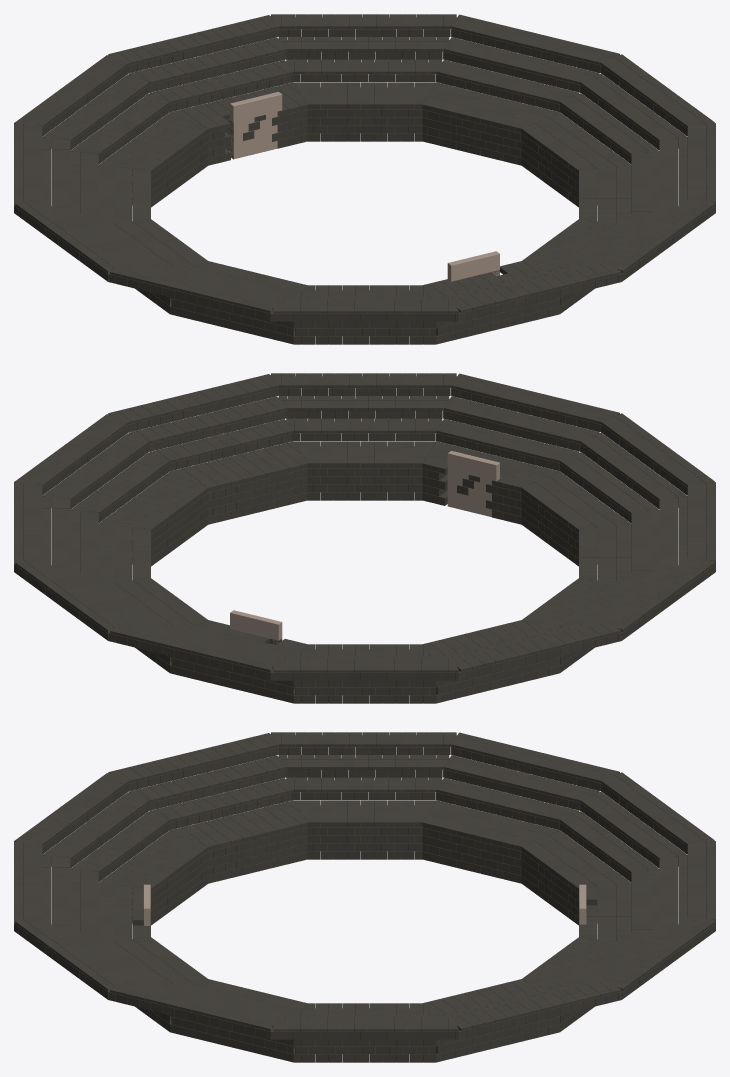
File: arena_bowl.glb
3 views of the same model, one above another, from view 1: azimuth 30°, elevation 25°; view 2: azimuth 150°, elevation 25°; view 3: azimuth 270°, elevation 25° (orthographic).
Visible parts, largest first — view 1: Bay10_stone_stand, Bay11_stone_stand, Bay09_stone_stand, Bay00_stone_stand, Bay08_stone_stand, Bay04_stone_stand, Bay01_stone_stand, Bay07_stone_stand, Bay05_stone_stand, Bay03_stone_stand, Bay06_stone_stand, Bay02_stone_stand (+2 smaller); view 2: Bay02_stone_stand, Bay01_stone_stand, Bay03_stone_stand, Bay04_stone_stand, Bay00_stone_stand, Bay08_stone_stand, Bay05_stone_stand, Bay11_stone_stand, Bay07_stone_stand, Bay09_stone_stand, Bay10_stone_stand, Bay06_stone_stand (+2 smaller); view 3: Bay06_stone_stand, Bay05_stone_stand, Bay07_stone_stand, Bay08_stone_stand, Bay04_stone_stand, Bay00_stone_stand, Bay01_stone_stand, Bay11_stone_stand, Bay09_stone_stand, Bay03_stone_stand, Bay02_stone_stand, Bay10_stone_stand.
Boxes of the visible parts, bbox=[...] form: Bay10_stone_stand: bbox=[271, 14, 456, 141]; Bay11_stone_stand: bbox=[422, 14, 619, 165]; Bay09_stone_stand: bbox=[108, 15, 307, 165]; Bay00_stone_stand: bbox=[521, 54, 714, 207]; Bay08_stone_stand: bbox=[14, 55, 208, 207]; Bay04_stone_stand: bbox=[271, 285, 458, 344]; Bay01_stone_stand: bbox=[579, 123, 715, 223]; Bay07_stone_stand: bbox=[14, 124, 150, 223]; Bay05_stone_stand: bbox=[108, 261, 307, 344]; Bay03_stone_stand: bbox=[422, 261, 621, 344]; Bay06_stone_stand: bbox=[14, 199, 207, 313]; Bay02_stone_stand: bbox=[522, 199, 715, 313]; Bay02_stone_stand: bbox=[271, 373, 456, 500]; Bay01_stone_stand: bbox=[108, 374, 307, 524]; Bay03_stone_stand: bbox=[422, 373, 619, 524]; Bay04_stone_stand: bbox=[521, 413, 714, 566]; Bay00_stone_stand: bbox=[14, 414, 208, 566]; Bay08_stone_stand: bbox=[271, 644, 458, 703]; Bay05_stone_stand: bbox=[579, 482, 715, 582]; Bay11_stone_stand: bbox=[14, 483, 150, 582]; Bay07_stone_stand: bbox=[422, 620, 621, 703]; Bay09_stone_stand: bbox=[108, 620, 307, 703]; Bay10_stone_stand: bbox=[14, 558, 207, 672]; Bay06_stone_stand: bbox=[522, 558, 715, 672]; Bay06_stone_stand: bbox=[271, 732, 456, 859]; Bay05_stone_stand: bbox=[108, 733, 307, 883]; Bay07_stone_stand: bbox=[422, 732, 619, 883]; Bay08_stone_stand: bbox=[521, 772, 714, 925]; Bay04_stone_stand: bbox=[14, 773, 208, 925]; Bay00_stone_stand: bbox=[271, 1003, 458, 1062]; Bay01_stone_stand: bbox=[108, 979, 307, 1062]; Bay11_stone_stand: bbox=[422, 979, 621, 1062]; Bay09_stone_stand: bbox=[579, 841, 715, 941]; Bay03_stone_stand: bbox=[14, 842, 150, 941]; Bay02_stone_stand: bbox=[14, 917, 207, 1031]; Bay10_stone_stand: bbox=[522, 917, 715, 1031].
Size of the model in its own units: 27.4 by 2.98 by 27.4.
